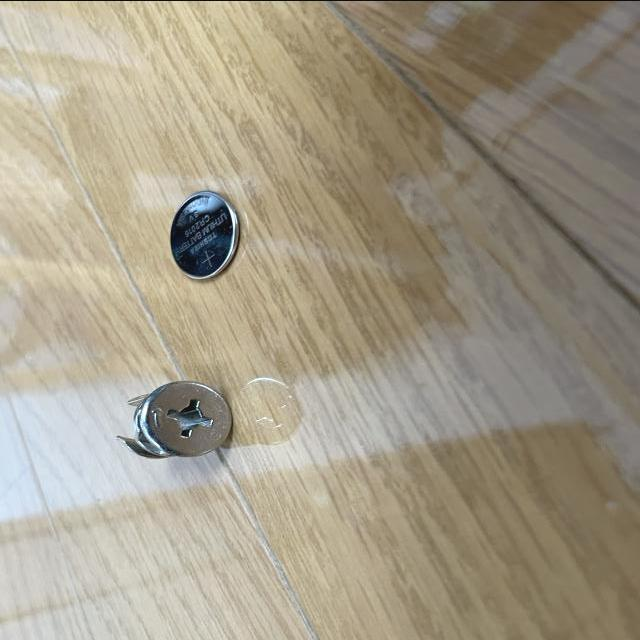COIN: (169, 191, 238, 278)
